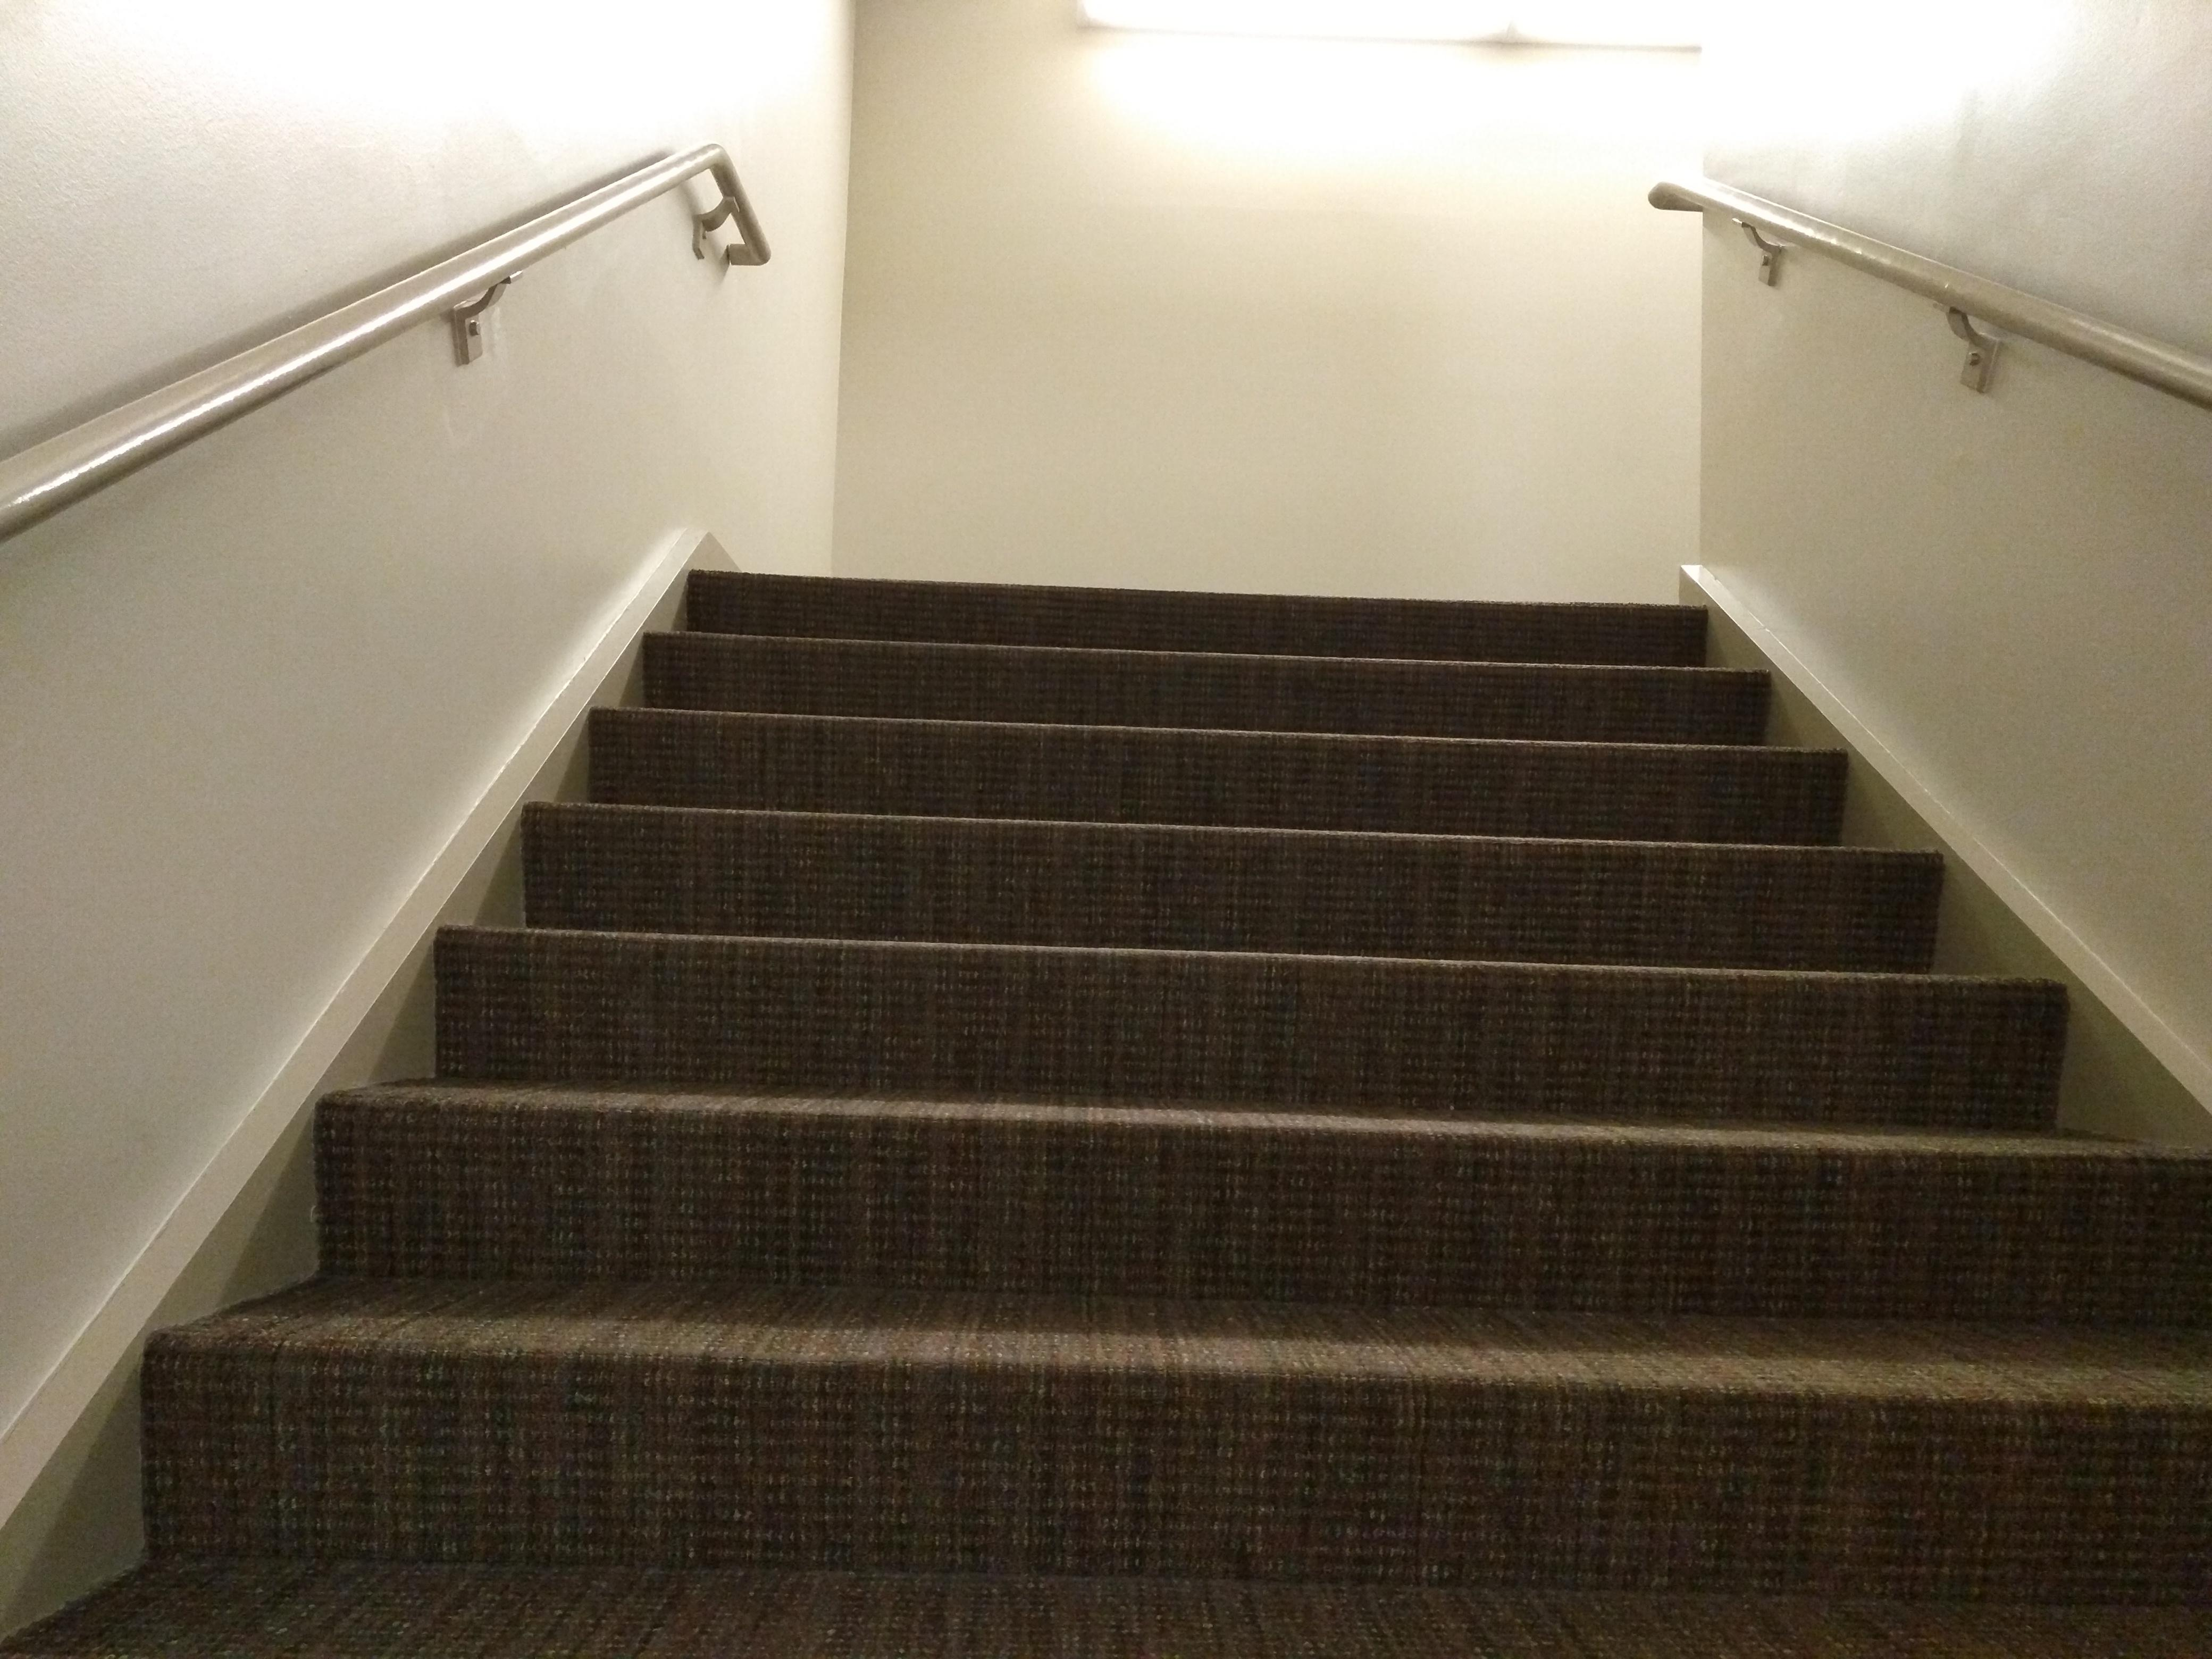stairs_up: (108, 551, 2193, 1638)
